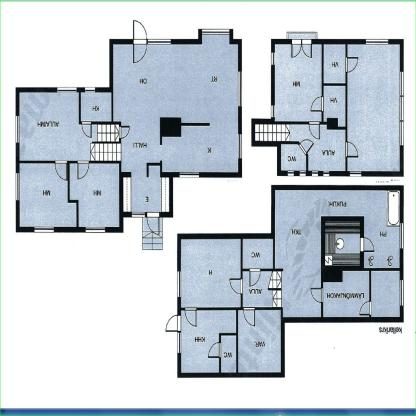door: (130, 19, 147, 61), (292, 41, 312, 60), (225, 278, 244, 295), (166, 316, 182, 336), (146, 213, 160, 234), (76, 159, 90, 179), (55, 159, 68, 180), (345, 143, 360, 160), (308, 120, 321, 139), (344, 58, 359, 73), (184, 309, 198, 325), (243, 308, 255, 326), (310, 288, 324, 303), (250, 268, 261, 287), (356, 302, 372, 315), (310, 96, 322, 113), (300, 140, 312, 156), (80, 121, 91, 138), (208, 346, 221, 360), (360, 239, 376, 250), (118, 126, 129, 140)
window: (398, 71, 404, 144), (82, 223, 106, 236), (398, 221, 405, 250), (364, 37, 387, 45), (202, 27, 228, 34), (34, 225, 55, 233), (177, 271, 183, 299), (15, 115, 21, 142), (15, 174, 21, 200), (238, 71, 242, 106), (148, 38, 171, 44), (180, 171, 199, 178), (57, 87, 76, 93), (400, 280, 404, 308), (177, 334, 182, 353), (86, 87, 94, 95), (271, 50, 275, 64), (271, 106, 276, 116), (240, 134, 242, 156)
zone: (113, 42, 237, 171), (346, 44, 399, 171), (323, 186, 399, 268), (274, 188, 322, 316), (21, 92, 91, 160), (182, 239, 241, 307), (274, 43, 323, 121), (21, 164, 76, 228), (181, 310, 236, 372), (280, 124, 345, 172), (72, 160, 118, 227), (238, 309, 280, 373), (322, 270, 372, 317), (124, 176, 168, 212), (254, 122, 320, 145), (325, 222, 361, 264), (370, 271, 400, 319), (242, 274, 282, 306), (93, 121, 123, 162), (322, 42, 345, 84), (81, 91, 111, 119), (242, 237, 273, 264), (324, 86, 343, 124), (141, 217, 162, 248), (221, 337, 238, 372)
